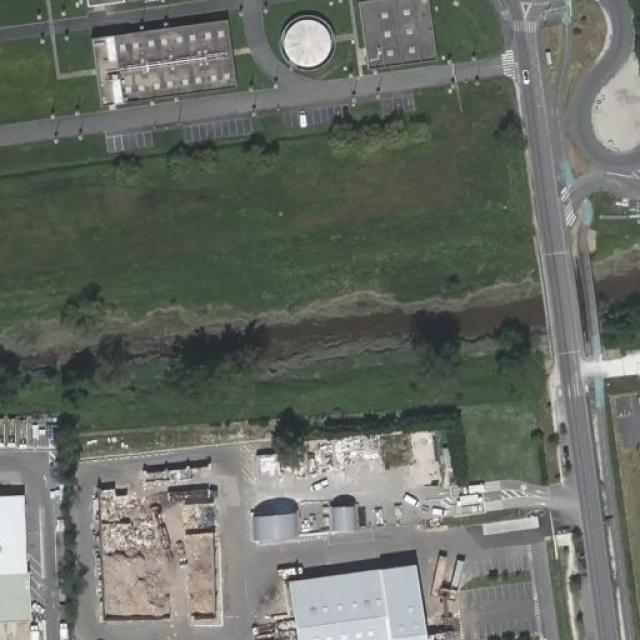ferme: (84, 441, 525, 640)
